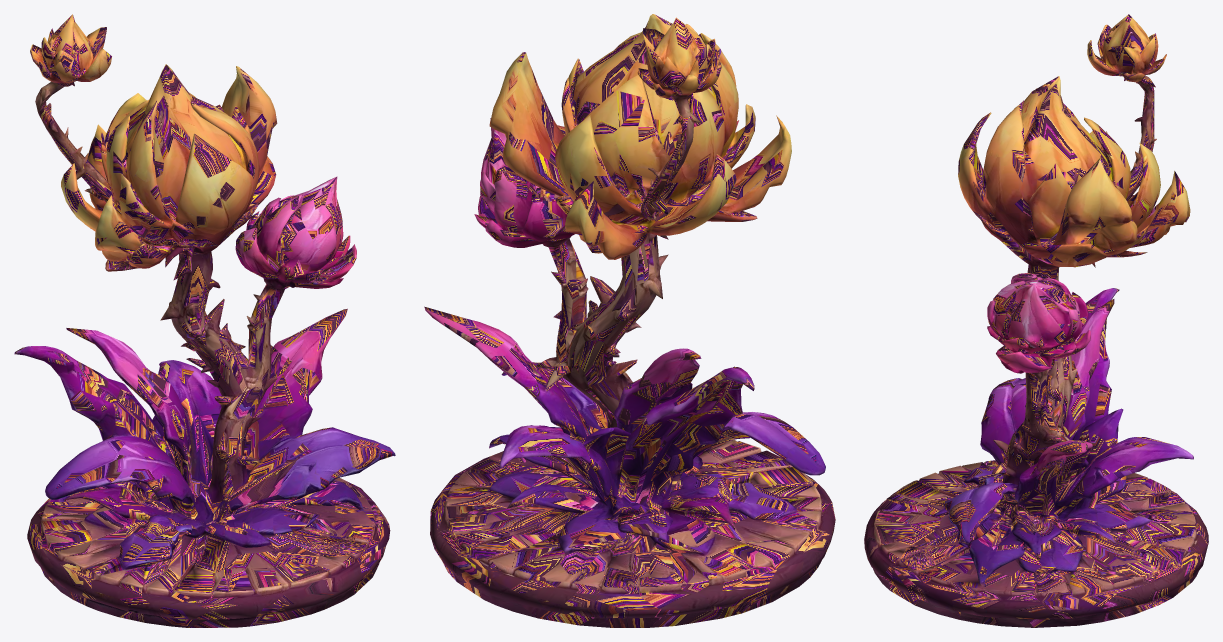
File: Twin_Flame_Bloom.glb
3 views of the same model, side by side, from view 1: azimuth 30°, elevation 25°; view 2: azimuth 150°, elevation 25°; view 3: azimuth 270°, elevation 25° (orthographic). The views are drawn at different scales.
Parts seen in each view (by area): view 1: Twin_Flame_Bloom; view 2: Twin_Flame_Bloom; view 3: Twin_Flame_Bloom.
Part boxes in pixels (x1=…): Twin_Flame_Bloom: x1=14, y1=14, x2=395, y2=627; Twin_Flame_Bloom: x1=424, y1=14, x2=835, y2=627; Twin_Flame_Bloom: x1=864, y1=14, x2=1208, y2=627.
Size of the model in its own units: 1.24 by 1.9 by 1.18.
1 material, 1 textured.
